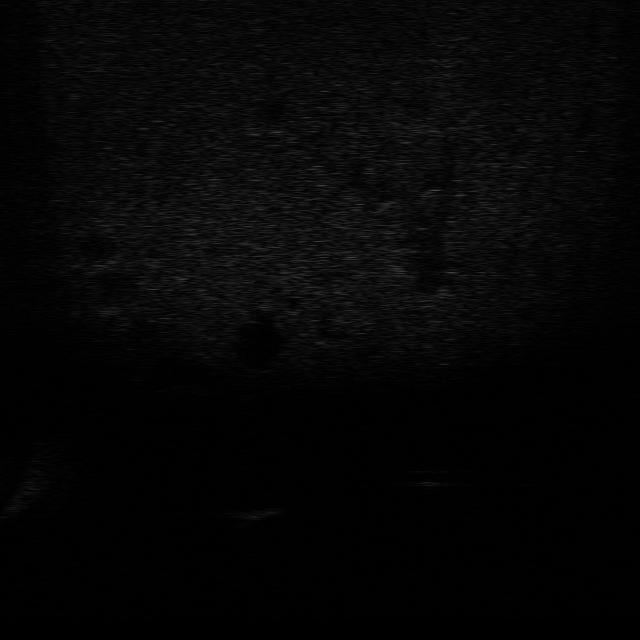ball: (398, 462, 462, 496)
square cage: (222, 498, 292, 534)
